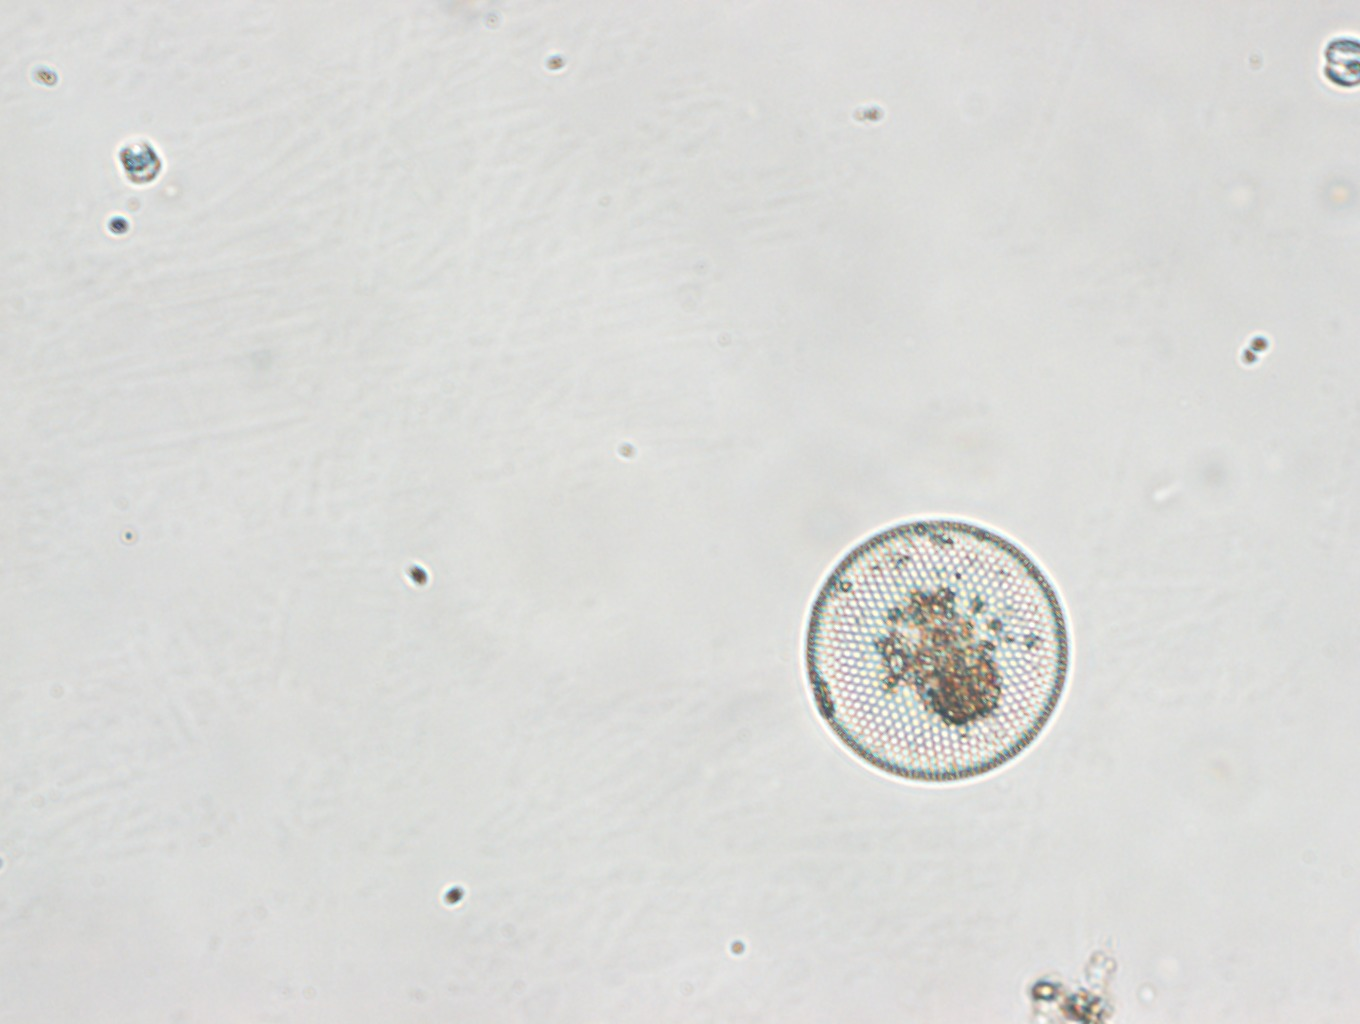coscinodiscus: (802, 513, 1069, 786)
